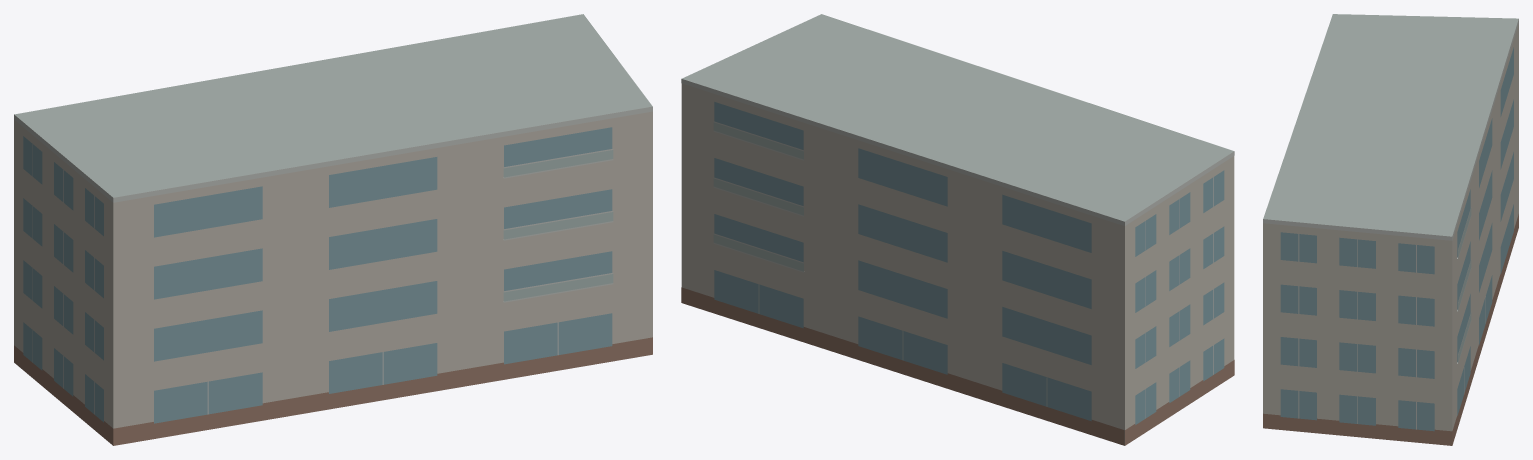
File: residential-8f580178-f593-470f-9132-07a2c71acd21.glb
The picture shows the model from 3 angles, left to right: view 1: azimuth 30°, elevation 25°; view 2: azimuth 150°, elevation 25°; view 3: azimuth 270°, elevation 25°; orthographic projection. The views are drawn at different scales.
Visible parts, largest first — view 1: residential-8f580178-f593-470f-9132-07a2c71acd21.tmp; view 2: residential-8f580178-f593-470f-9132-07a2c71acd21.tmp; view 3: residential-8f580178-f593-470f-9132-07a2c71acd21.tmp.
Boxes of the visible parts, bbox=[...] form: residential-8f580178-f593-470f-9132-07a2c71acd21.tmp: bbox=[14, 14, 652, 445]; residential-8f580178-f593-470f-9132-07a2c71acd21.tmp: bbox=[681, 14, 1234, 445]; residential-8f580178-f593-470f-9132-07a2c71acd21.tmp: bbox=[1263, 14, 1518, 445].
Size of the model in its own units: 27.85 by 12.2 by 13.53.
